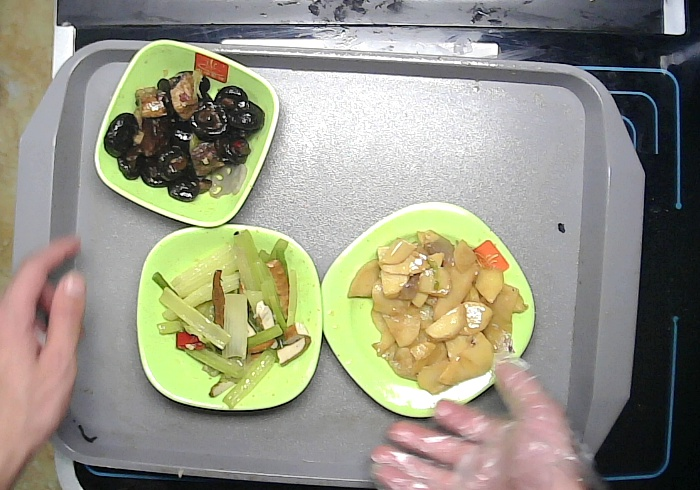SHKJ-Lv_Se_Cai_Die: (132, 219, 329, 419)
SHKJ-Lv_Se_Si_Fang_Cai_Die: (310, 198, 540, 425)
SHKJ-Lv_Se_Xiao_Fang_Die: (91, 37, 283, 231)
